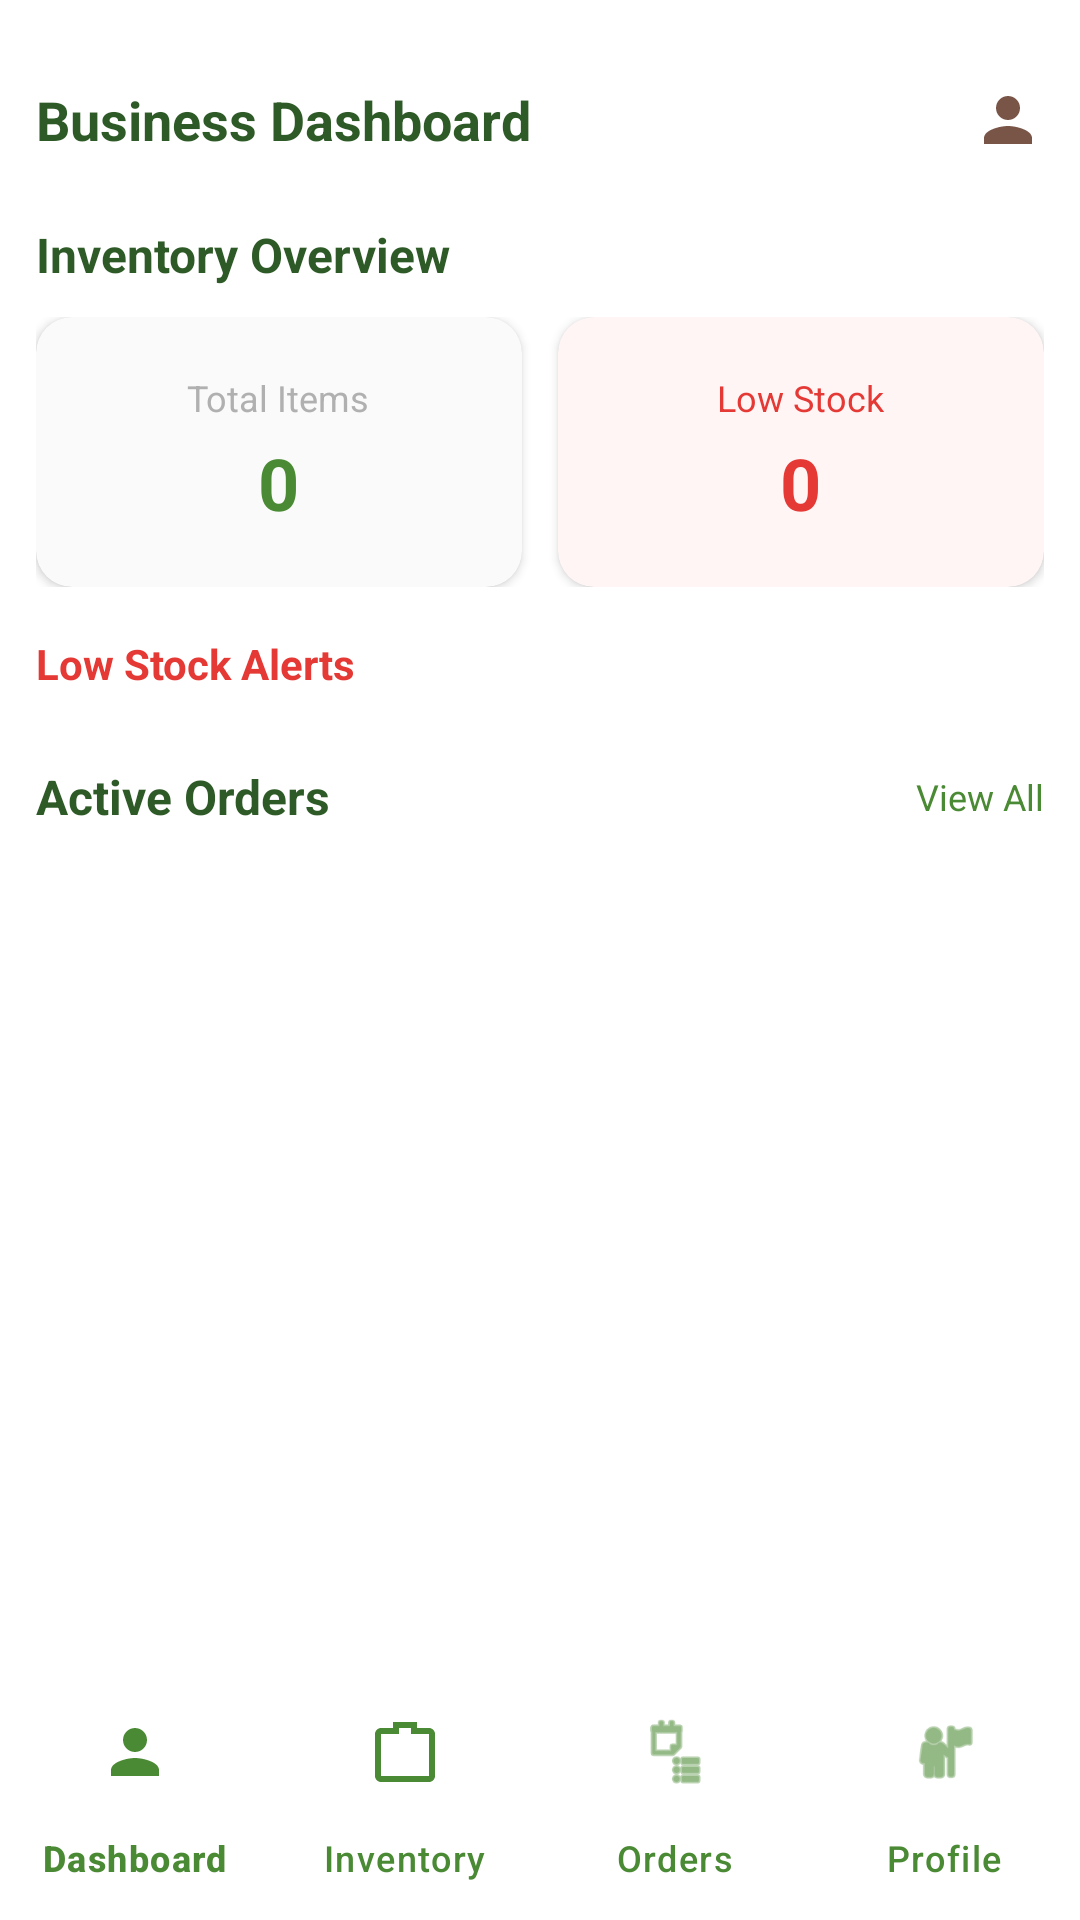

Icon click points for this 1080 × 1920 phone screenshot, format (x,y):
Admin: (1008,120)
